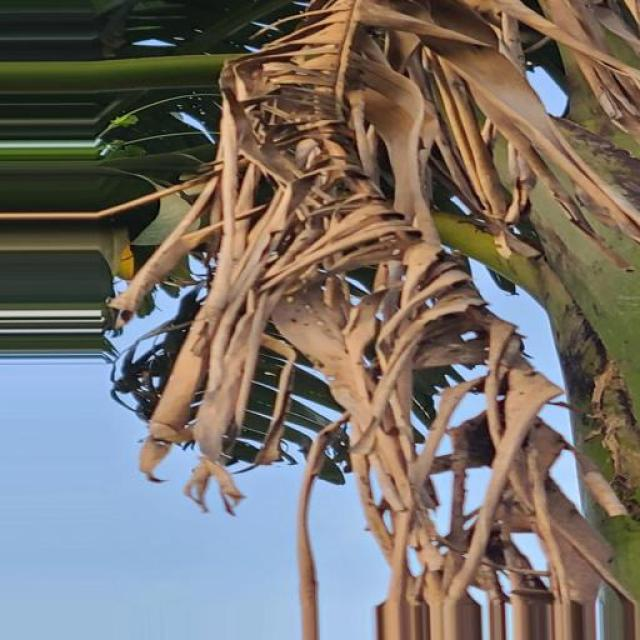Bract_mosaic_virus: (81, 1, 640, 640)
